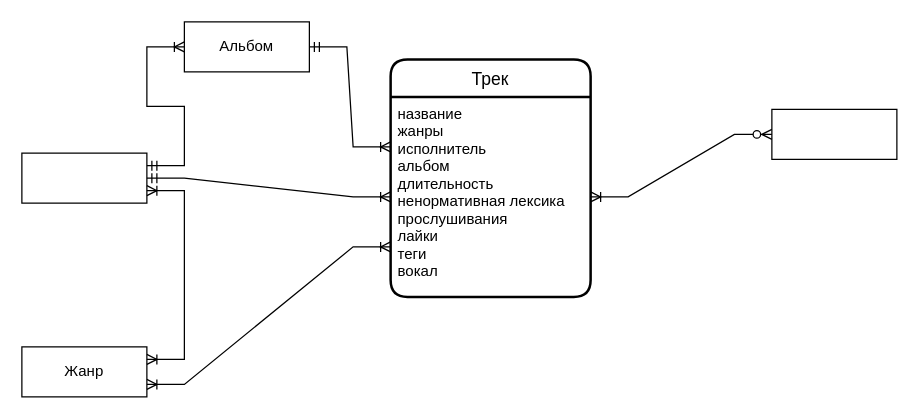
Image size: 919x419. Some labels were removed from this diagram. Each missing label, with the centre of its shape:
"Исполнитель" belongs at (84,177).
"Тег" belongs at (834,133).
